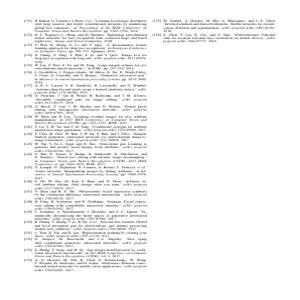text: (21, 17, 150, 274), (152, 17, 278, 44)
